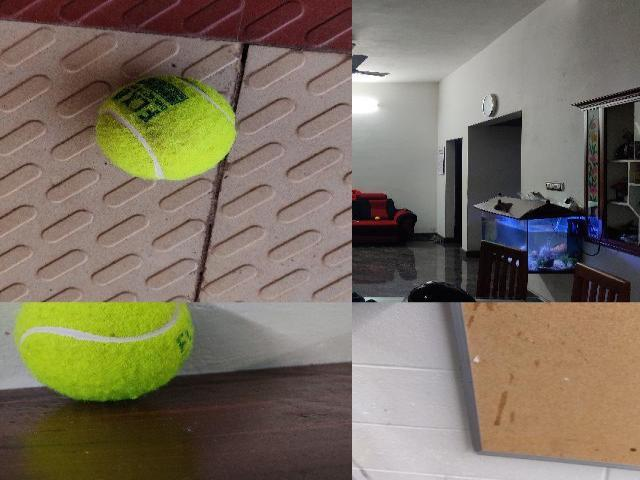tennis-ball: (12, 302, 194, 402), (95, 76, 235, 179), (375, 216, 379, 220)
